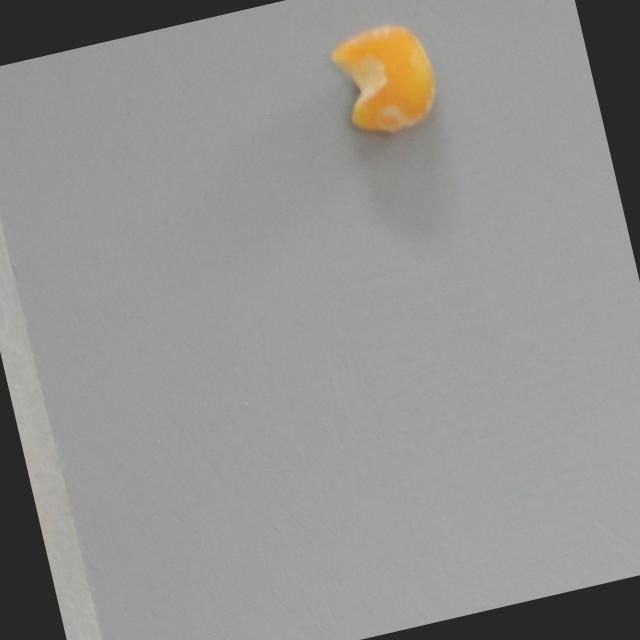pelicula: (324, 16, 447, 145)
